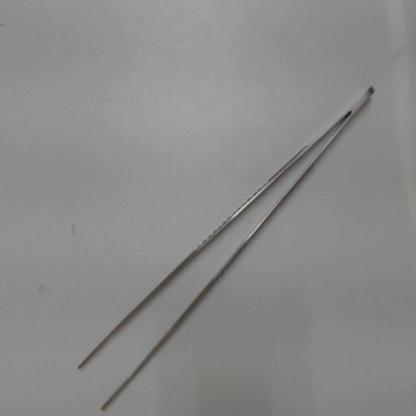DeBakey Dissector: (69, 79, 385, 416)
